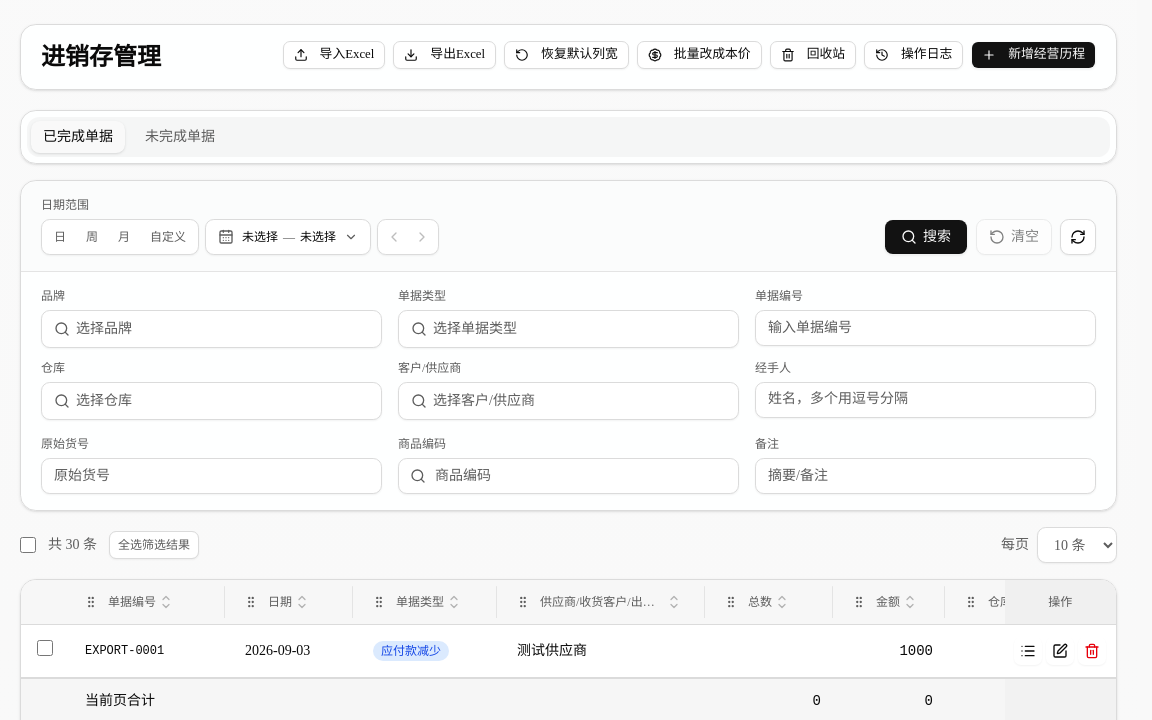
counts applied filter groups and preserves Enter search, refresh and clear
Expected: the text "EXPORT-0001" is shown, 85,643 -> 164,659
Click the button "日": (60, 237) 44,222 -> 76,252
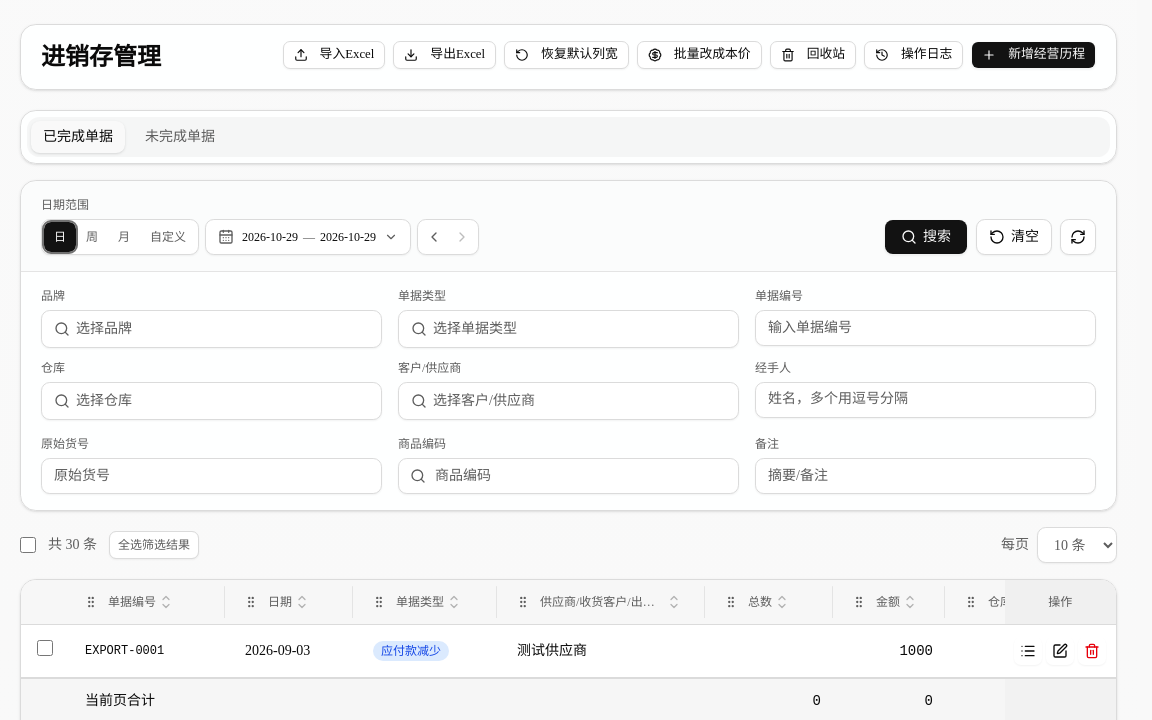
In the text box labelled "经手人": (926, 400) 755,382 -> 1096,418, type "张三"
Then press Enter
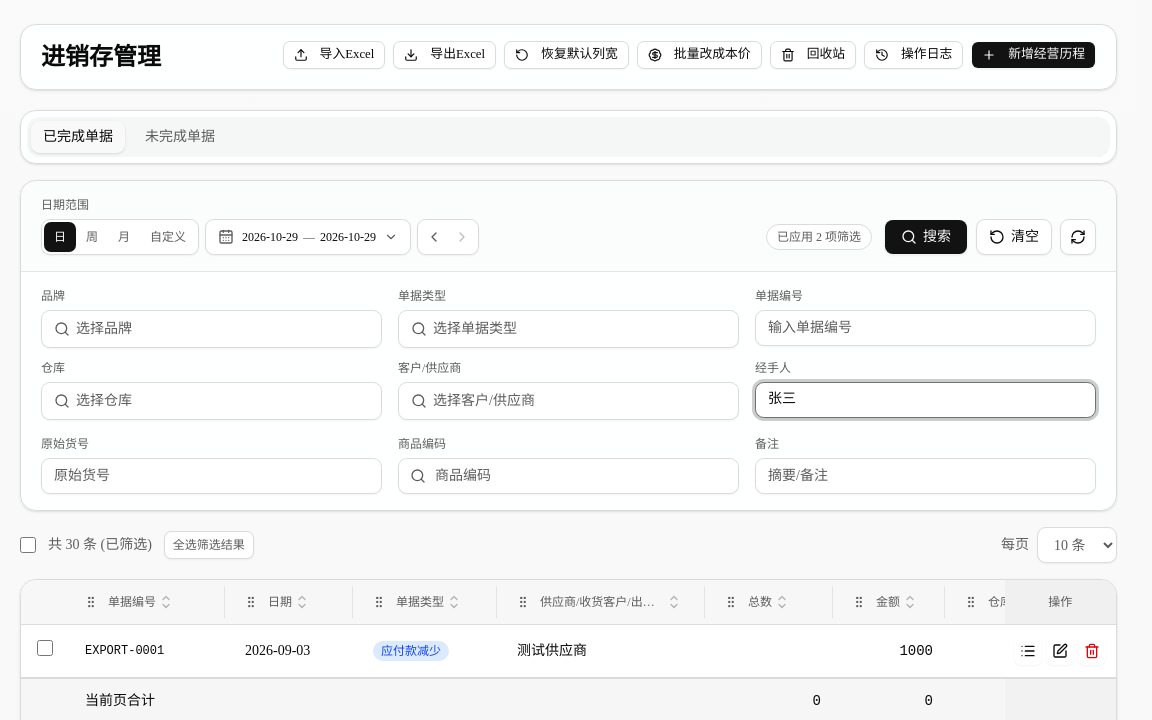
Now the message reads "已应用 2 项筛选", box 766,224 -> 872,250
Click the button named "刷新列表": (1078, 237) 1060,219 -> 1096,255
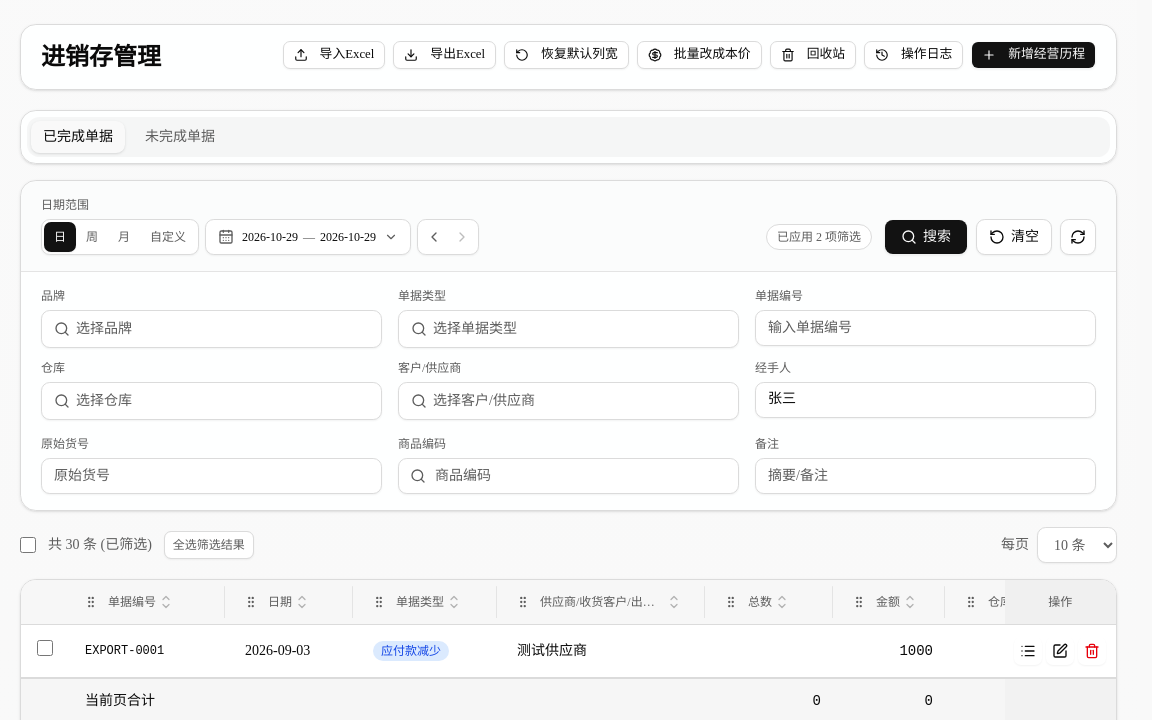
Click the button "清空": (1014, 237) 976,219 -> 1052,255
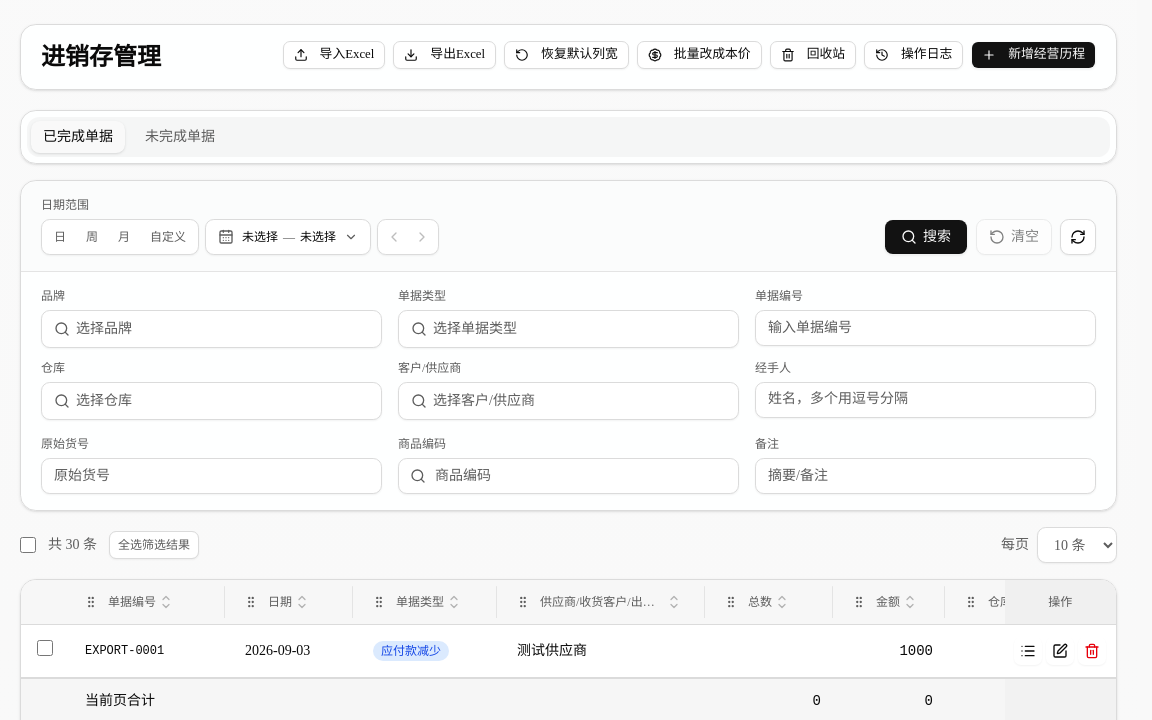
Now the text box labelled "经手人" is empty, box 755,382 -> 1096,418
Now the message "已应用 2 项筛选" is gone
